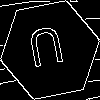U: (25, 25, 69, 77)
